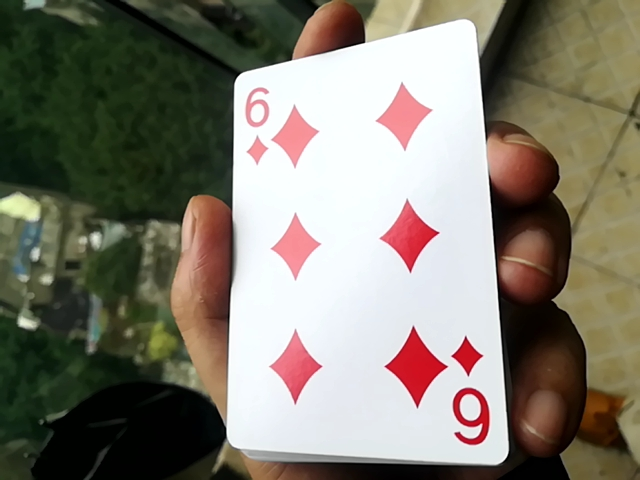fk 6: (206, 11, 508, 470)
